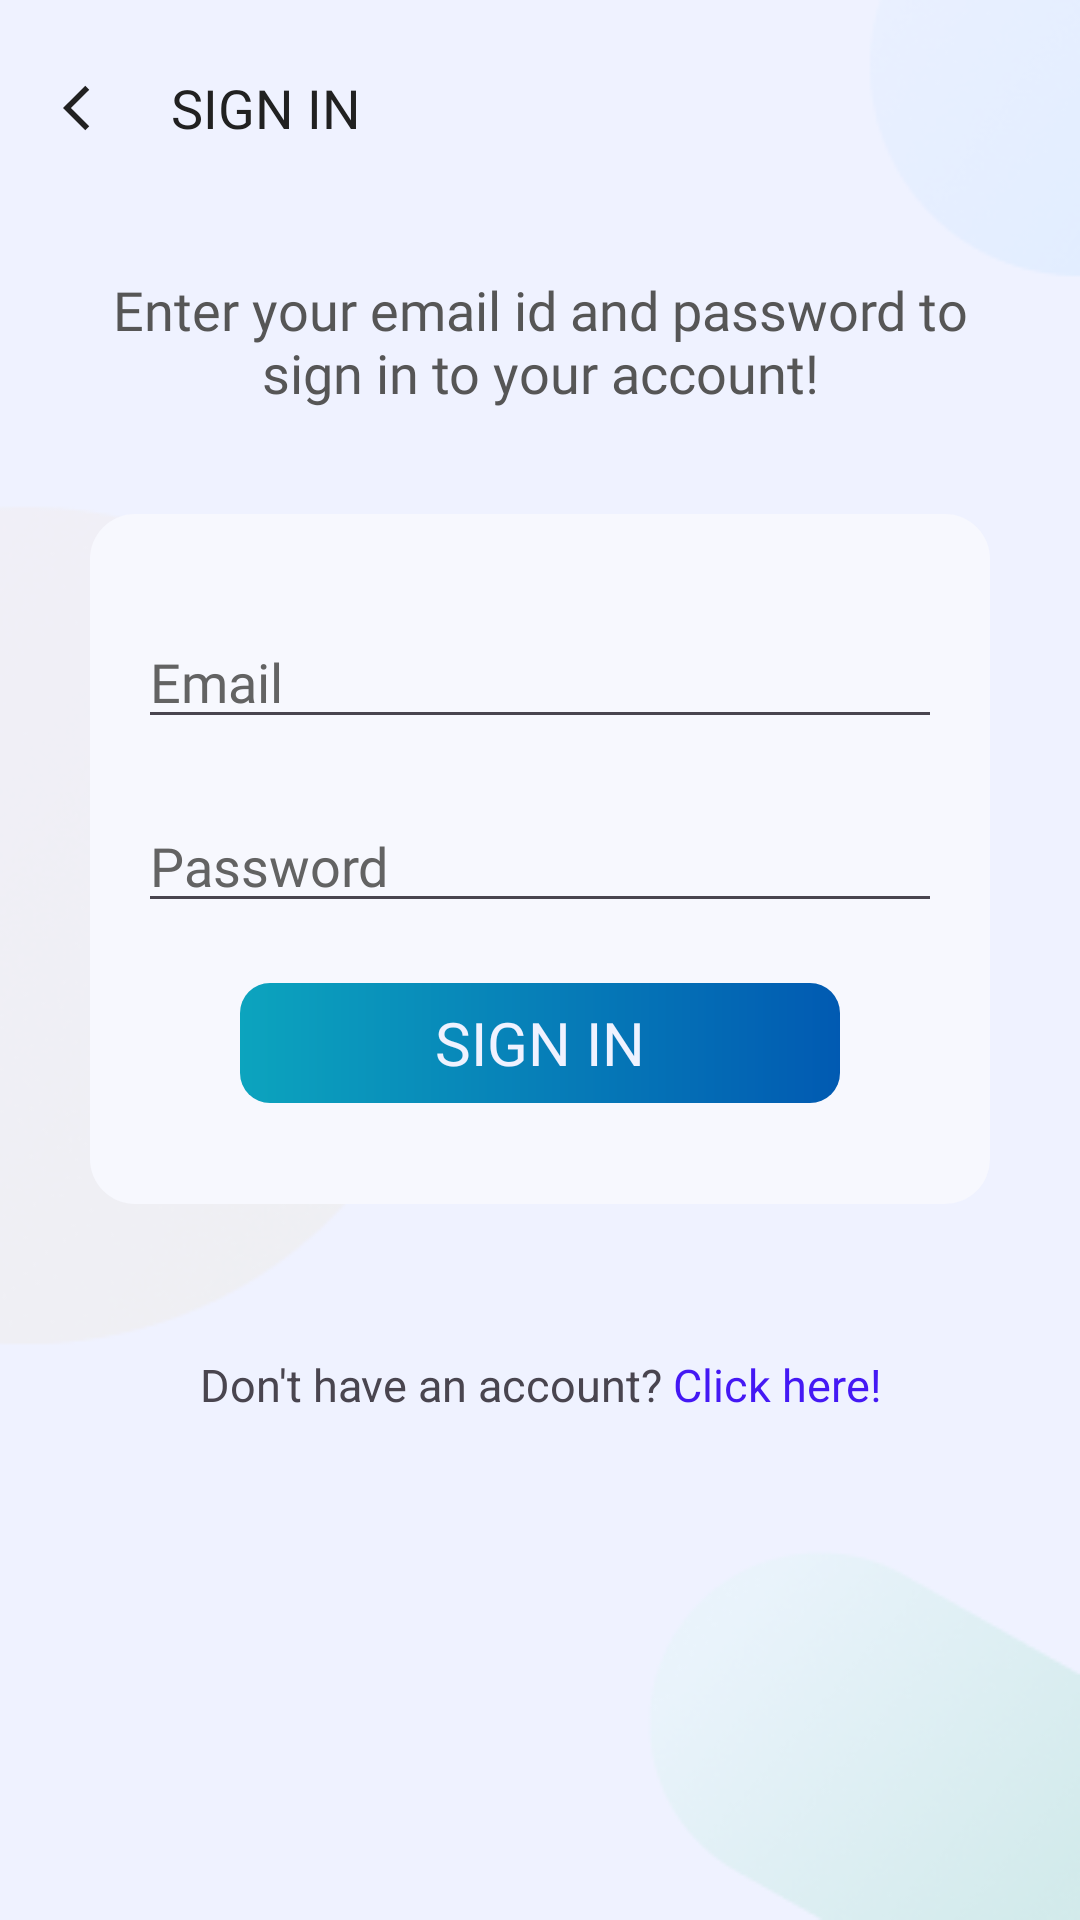

Named icons in this screenshot (1080px×1920px) and their centers, (x,y):
back: (76,108)
